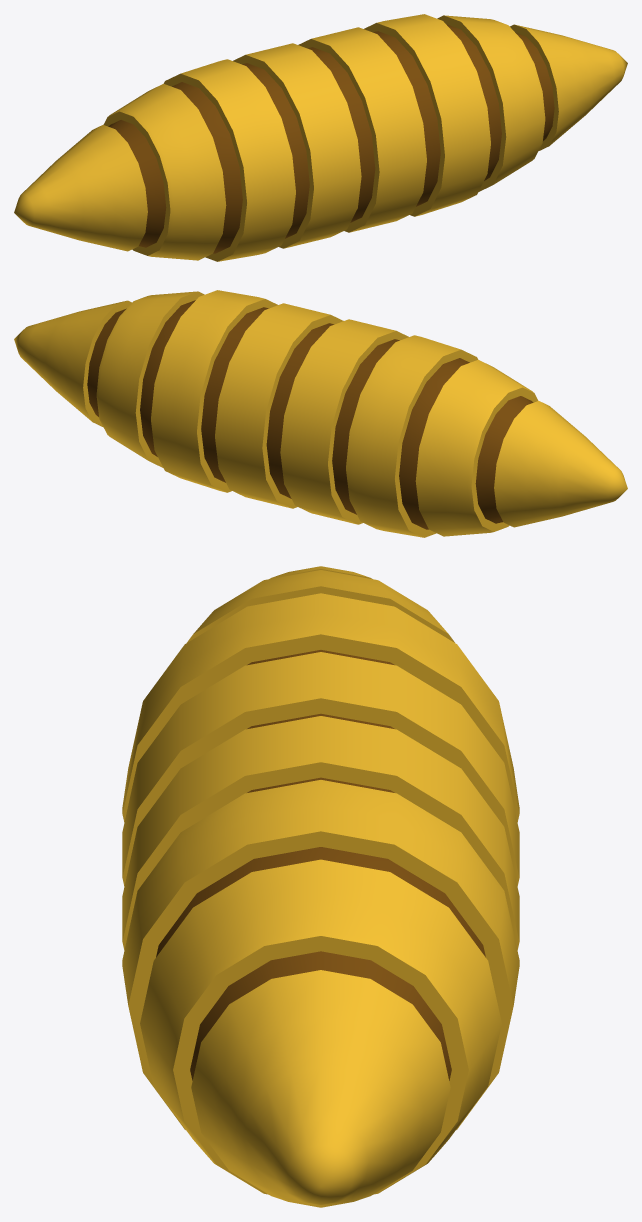
File: gulli-golden.glb
3 views of the same model, one above another, from view 1: azimuth 30°, elevation 25°; view 2: azimuth 150°, elevation 25°; view 3: azimuth 270°, elevation 25° (orthographic). The views are drawn at different scales.
Visible parts, largest first — view 1: GulliGolden_Gold, GulliGolden_Engraving; view 2: GulliGolden_Gold, GulliGolden_Engraving; view 3: GulliGolden_Gold, GulliGolden_Engraving.
Part boxes in pixels (x1,y1,x2,y2): GulliGolden_Gold: [14, 14, 627, 261]; GulliGolden_Engraving: [108, 24, 554, 253]; GulliGolden_Gold: [14, 290, 627, 537]; GulliGolden_Engraving: [87, 300, 533, 529]; GulliGolden_Gold: [122, 566, 519, 1207]; GulliGolden_Engraving: [156, 650, 485, 1080].
Size of the model in its own units: 1.5 by 0.42 by 0.42.
